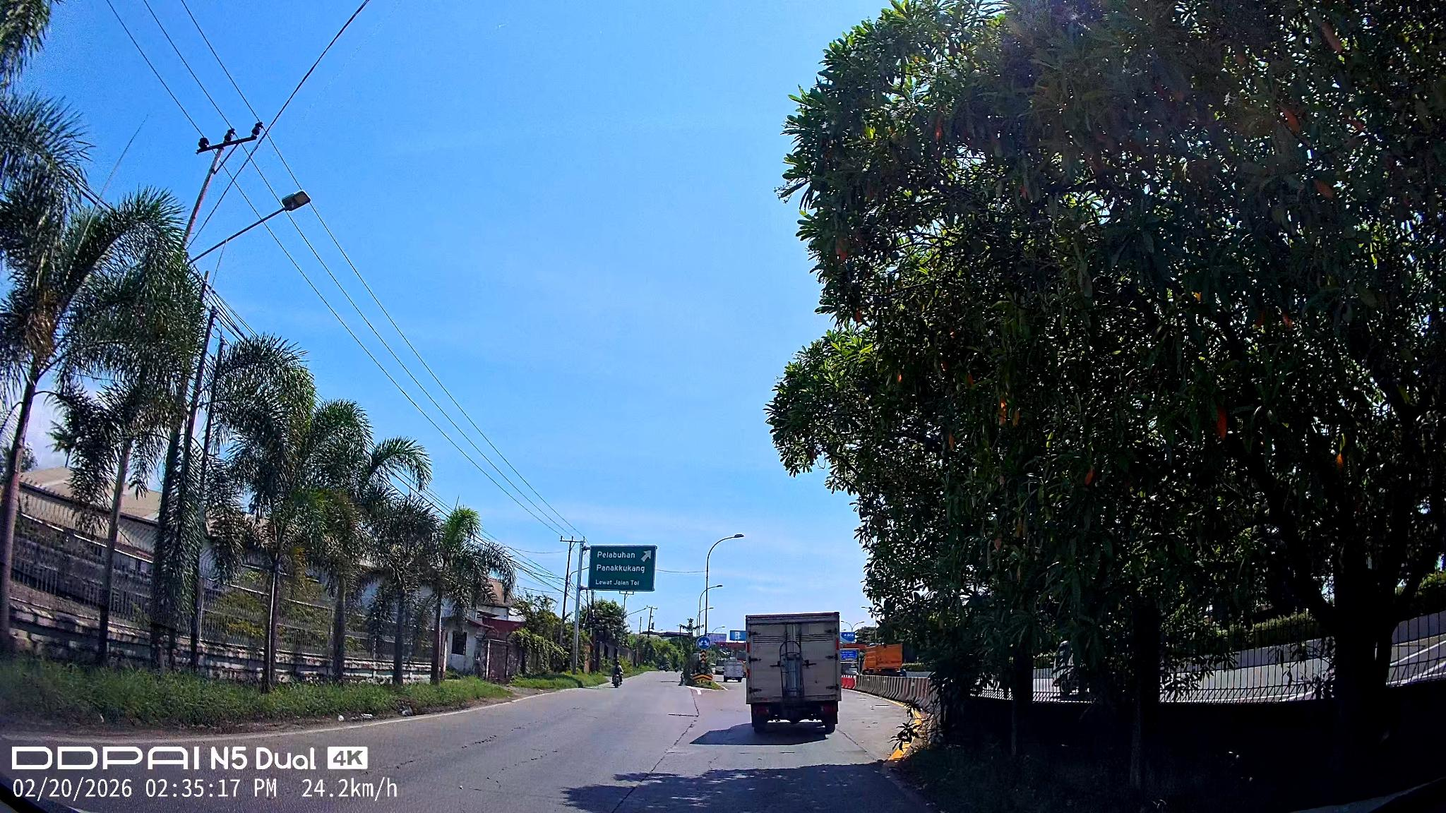rambu_teks: (587, 545, 658, 592)
